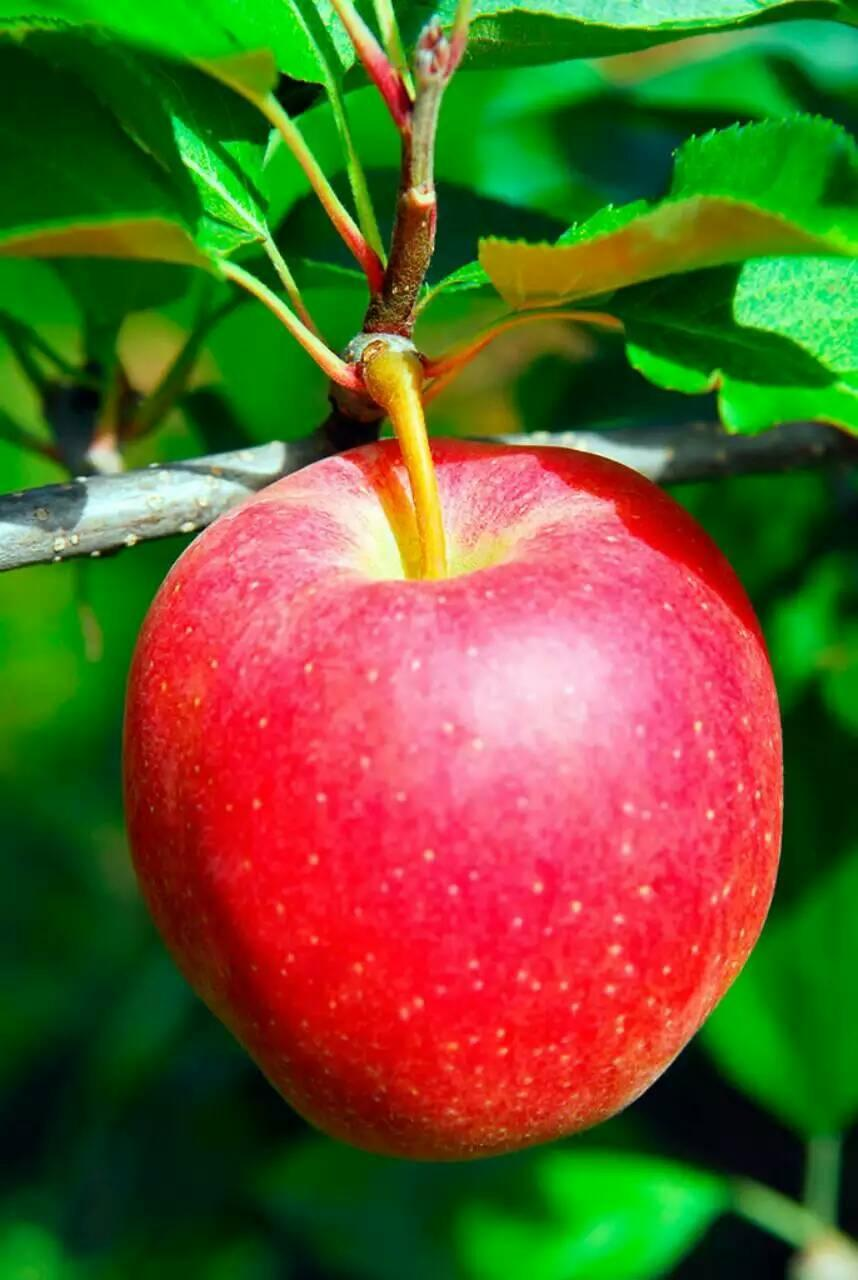apple: (115, 428, 781, 1152)
